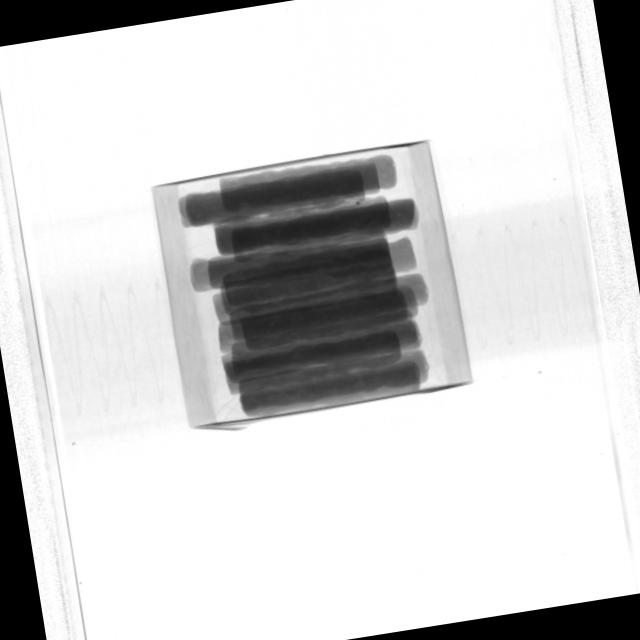ym: (356, 202, 361, 207)
